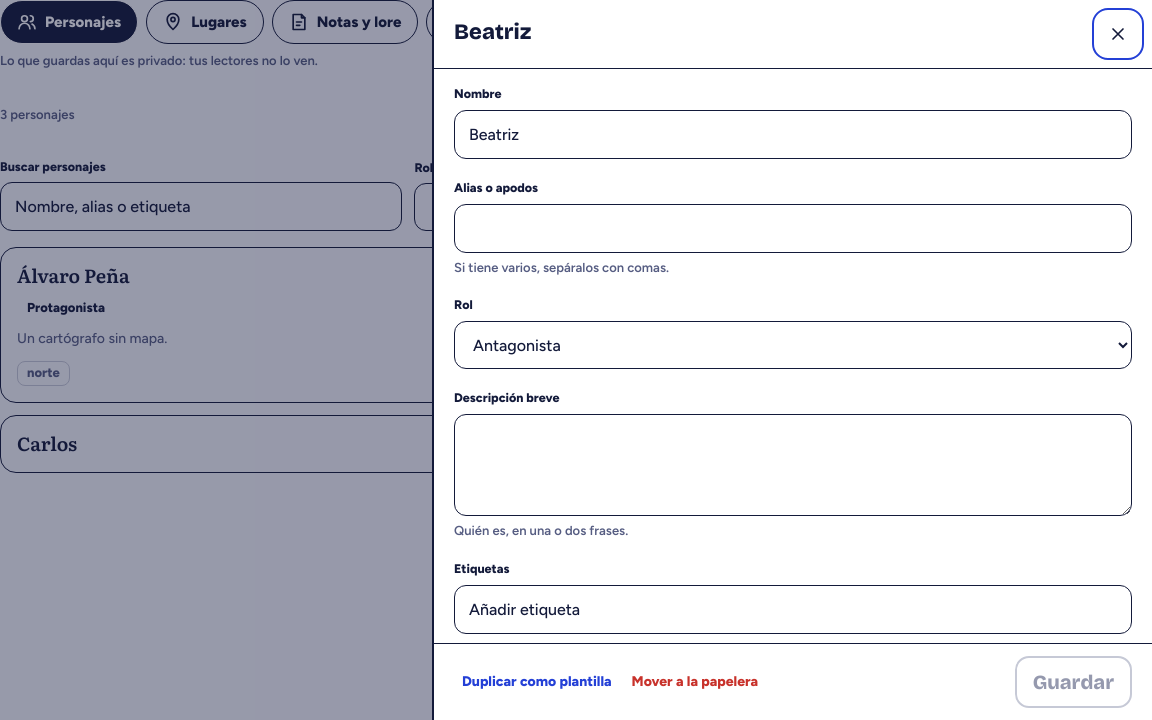
Test: Universe · characters › keeps the author’s text on a 409 and re-saves against the current revision
Replace the text in the field labelled "Nombre" with "Beatriz mía" at point(793, 134), box [454, 110, 1132, 159]
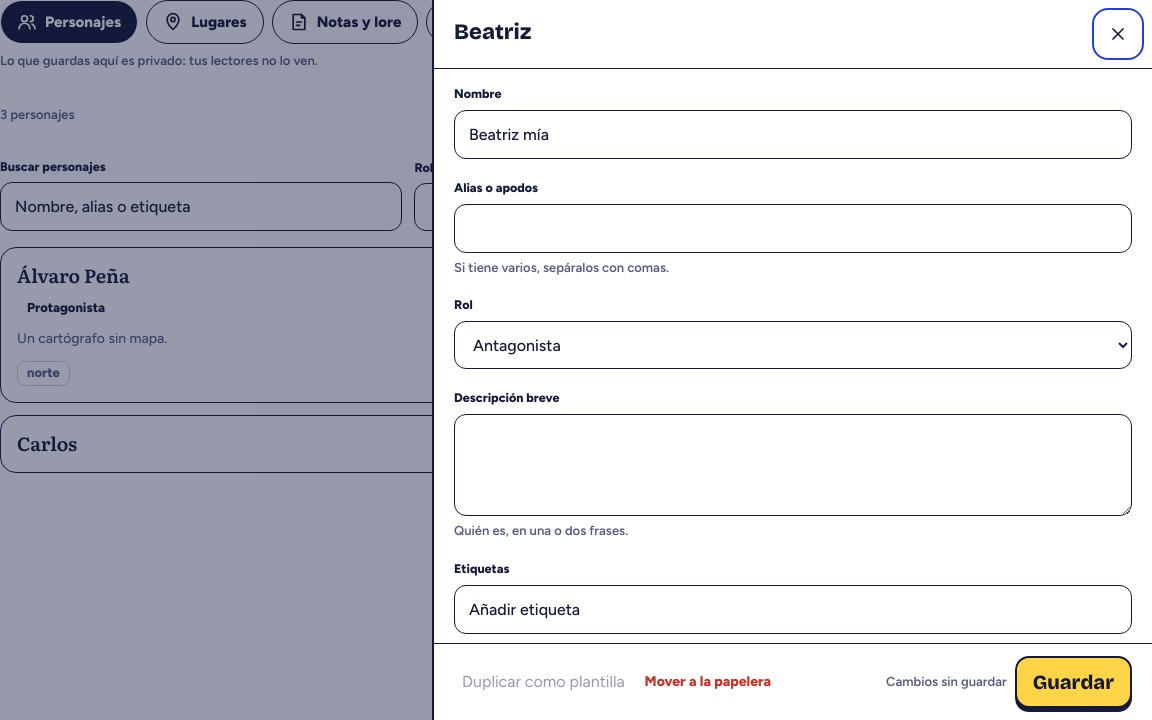
Click the button "Guardar".
click(1073, 682)  # box [1015, 656, 1132, 708]
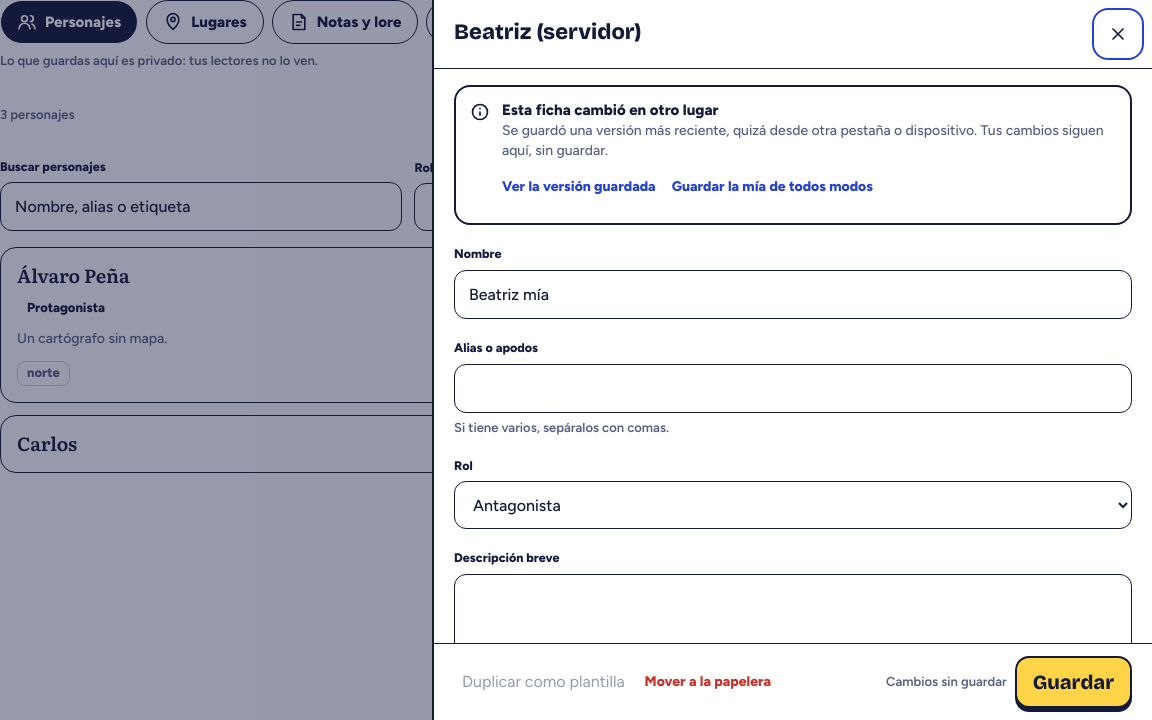
Expected: the text "Esta ficha cambió en otro lugar" is shown, [502, 101, 718, 119]
Click the button "Guardar la mía de todos modos".
click(772, 187)  # box [672, 165, 873, 209]
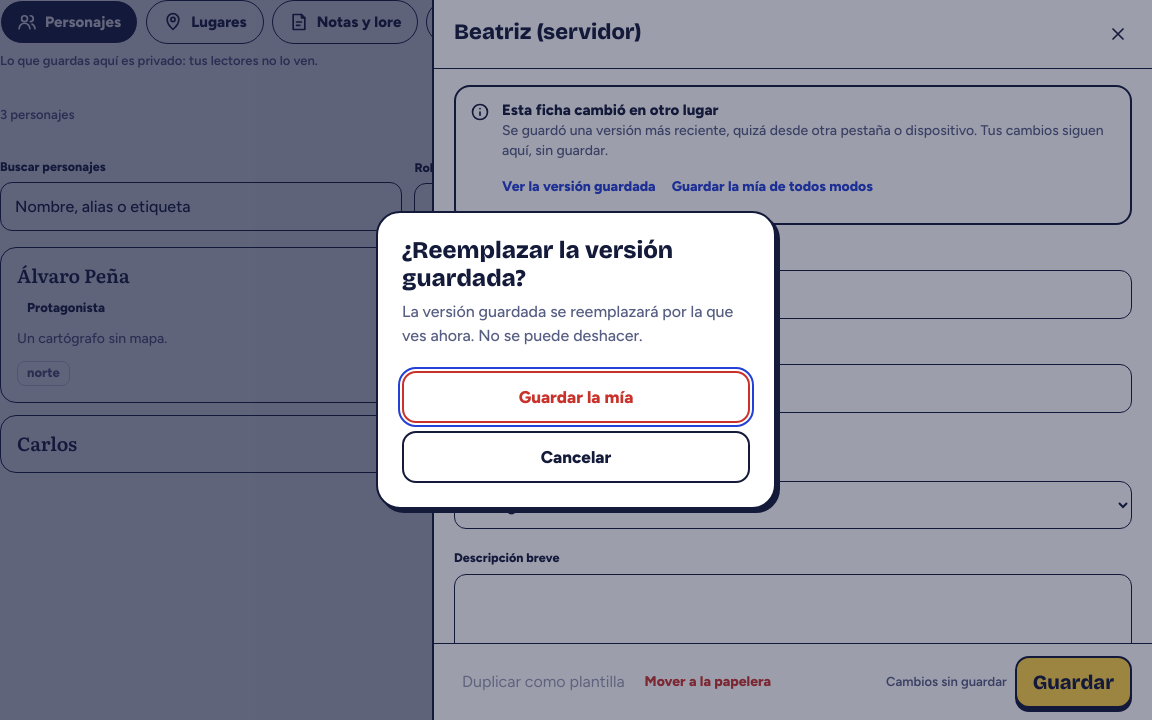
Click the button "Guardar la mía".
click(576, 397)  # box [402, 371, 750, 423]
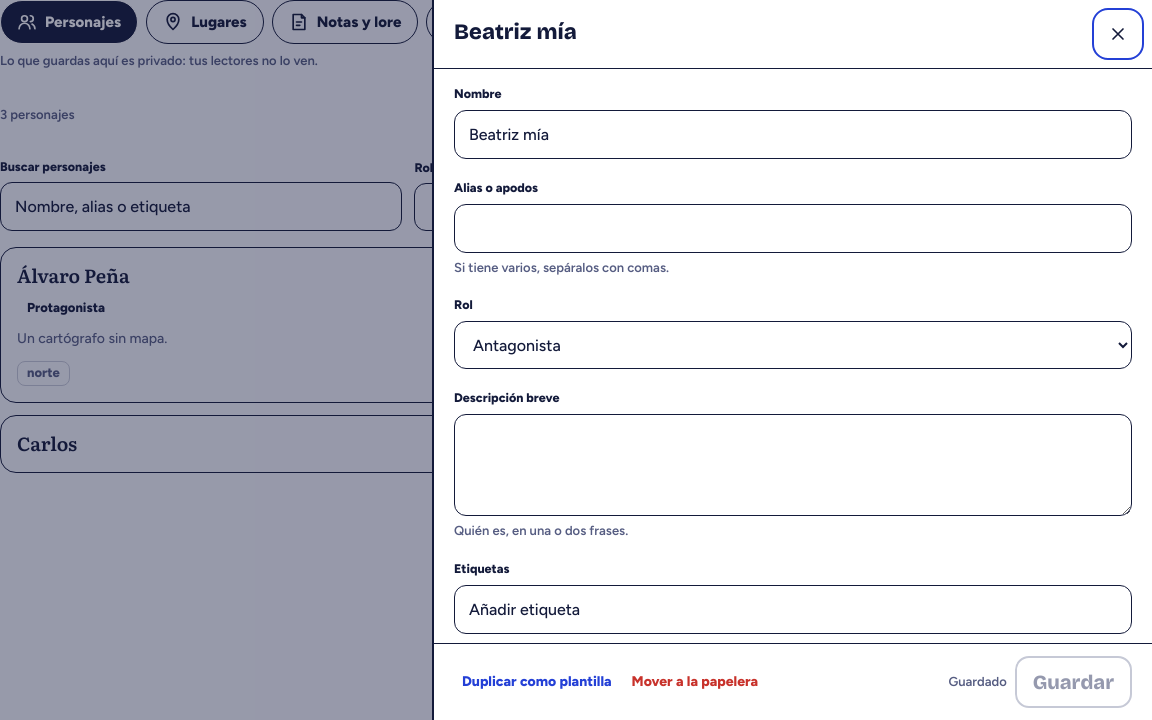
Expected: the text "Esta ficha cambió en otro lugar" is gone
